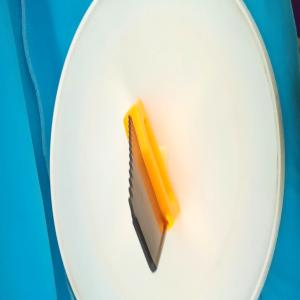serrote: (122, 96, 182, 275)
